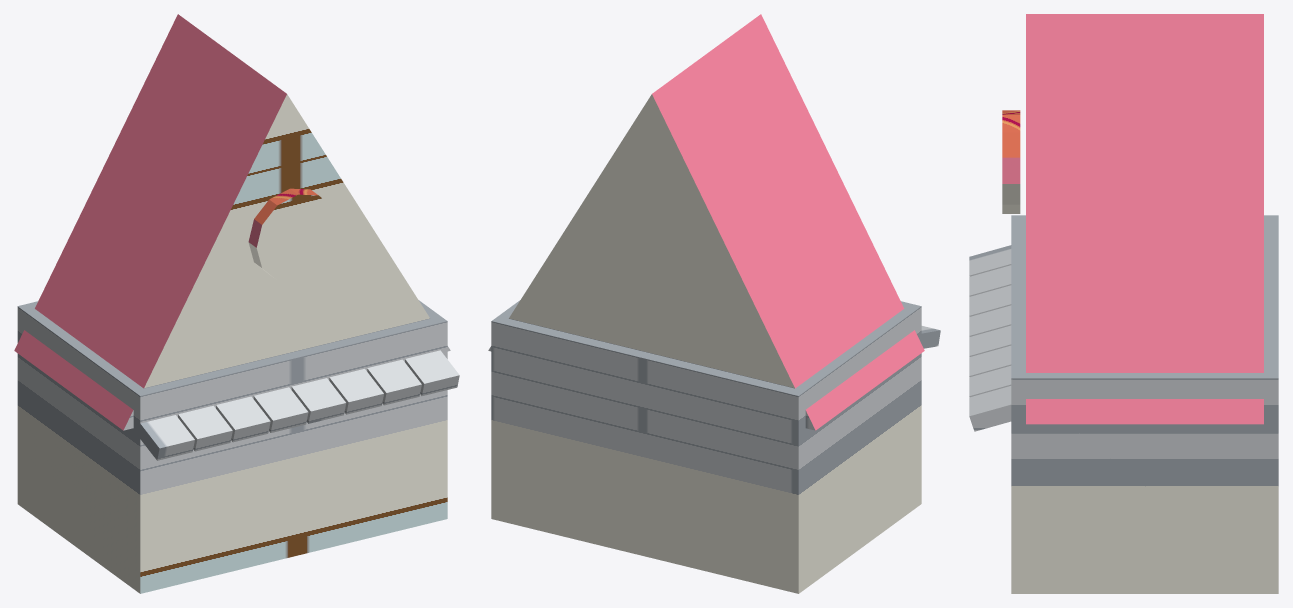
The model's file is building_shop.glb.
The picture shows the model from 3 angles, left to right: view 1: azimuth 30°, elevation 25°; view 2: azimuth 150°, elevation 25°; view 3: azimuth 270°, elevation 25°; orthographic projection. The views are drawn at different scales.
Parts seen in each view (by area): view 1: building_shop; view 2: building_shop; view 3: building_shop.
Boxes of the visible parts, box(x1,y1,x2,y2) form: building_shop: box(14, 14, 459, 593); building_shop: box(488, 14, 940, 593); building_shop: box(969, 14, 1278, 593).
Size of the model in its own units: 2.77 by 3.7 by 2.08.
Materials: 3 (3 with a texture image).
